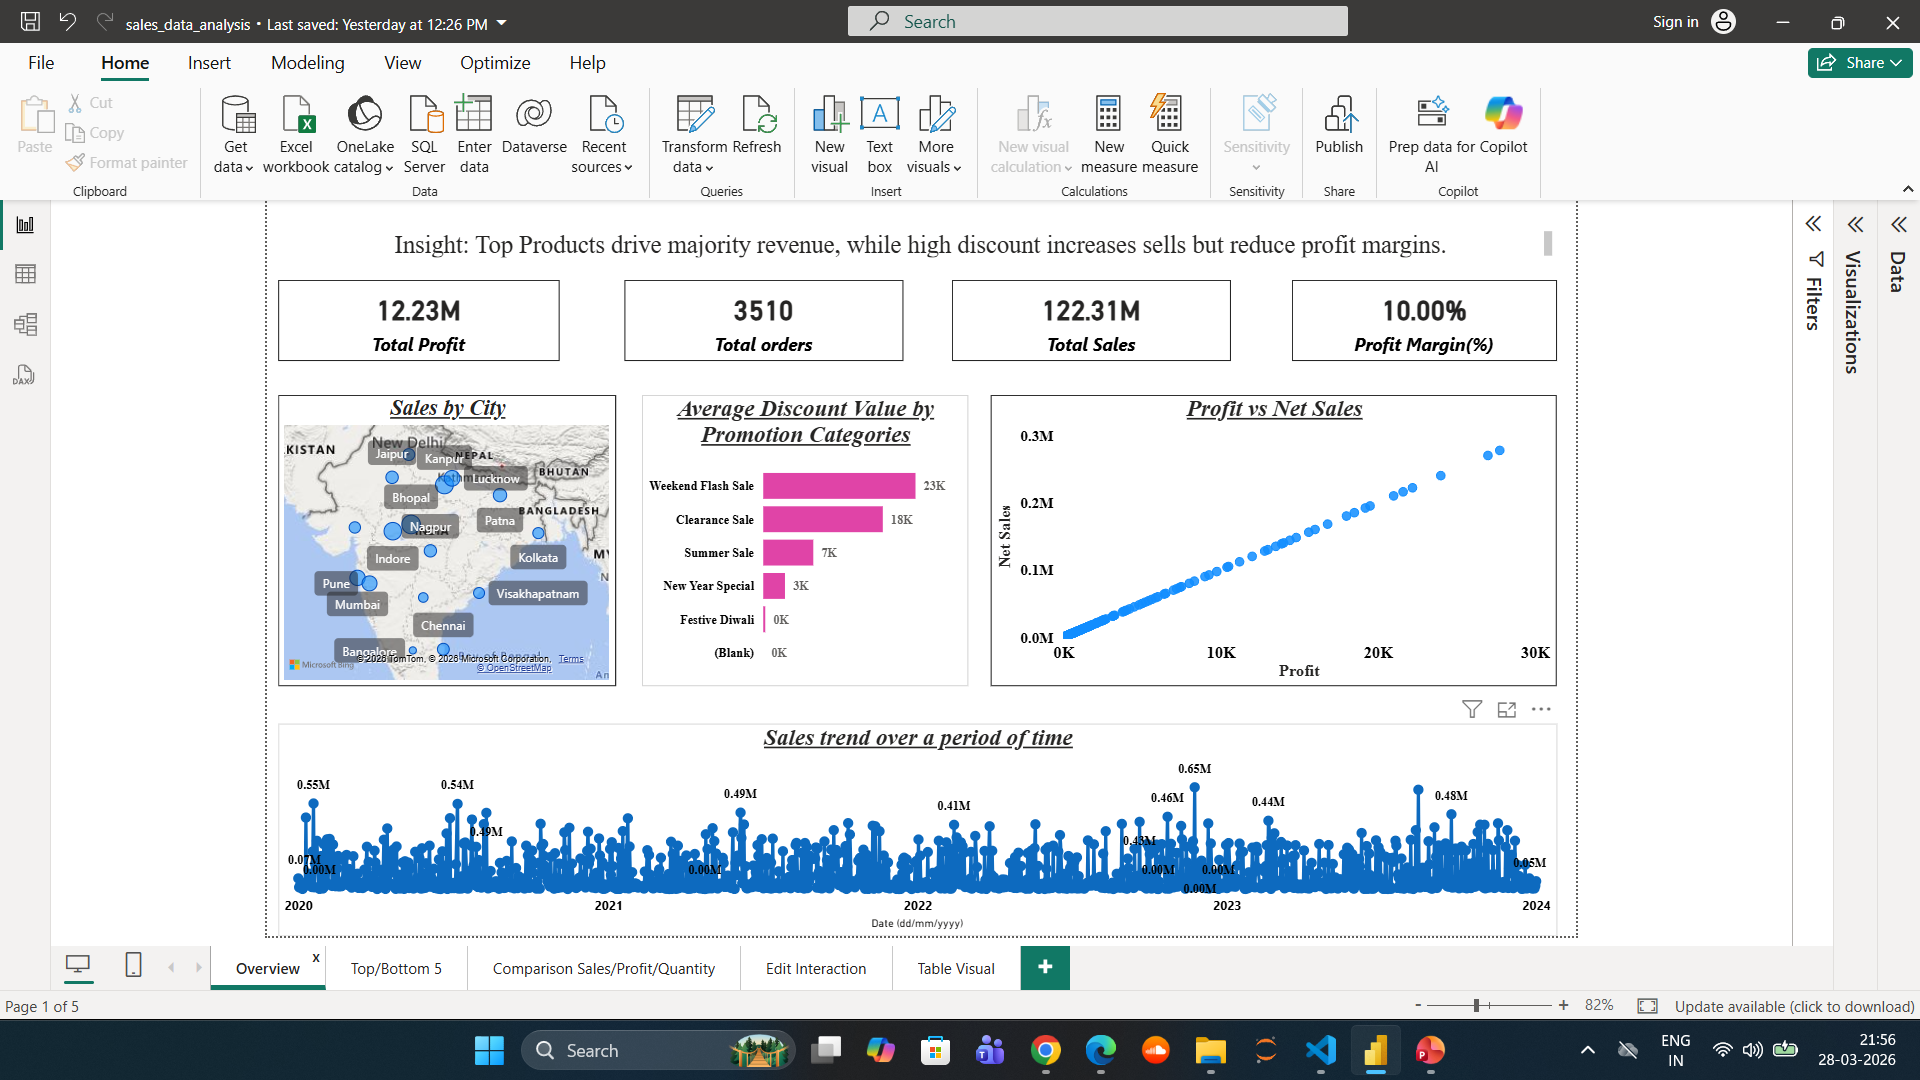

The page's visual inventory and layout, read from the dashboard file:
{"tool":"powerbi","page":{"name":"Overview","canvas":[1280,720],"ordinal":1},"visuals":[{"type":"lineChart","title":"Sales trend over a period of time","fields":{"Category":["Sheet3.Date (dd/mm/yyyy).Variation.Date Hierarchy.Year"],"Y":["Sum(Sheet3.Net Sales)"]},"box":[11,446.3,1253.4,273.9],"z":0},{"type":"scatterChart","title":"Profit vs Net Sales","fields":{"X":["Sum(Sheet3.Profit)"],"Y":["Sum(Sheet3.Net Sales)"]},"box":[701.9,15.9,547.8,414.5],"z":1000},{"type":"barChart","title":"Average Discount Value by Promotion Categories","fields":{"Y":["Avg(Sheet3.Discount Value)"],"Category":["Dim Promotion.Promotion Name"]},"box":[371.7,145.5,319.2,284.9],"z":2000},{"type":"map","title":"Sales by City","fields":{"Category":["Dim Customers.City"],"Size":["Sum(Sheet3.Net Sales)"]},"box":[44,15.9,316.7,414.5],"z":3000},{"type":"card","fields":{"Values":["Count(Sheet3.Order Id)"]},"box":[371.7,15.9,310.6,113.7],"z":4000}]}

Visuals, with their boxes on the page's 1280x720 design canvas (x1, y1, x2, y2). These are canvas units, not pixel positions in the 1920x1080 screenshot, which may show the page scaled, cropped or inside an application window:
"Sales trend over a period of time" lineChart: bbox=(11, 446, 1264, 720)
"Profit vs Net Sales" scatterChart: bbox=(702, 16, 1250, 430)
"Average Discount Value by Promotion Categories" barChart: bbox=(372, 146, 691, 430)
"Sales by City" map: bbox=(44, 16, 361, 430)
card - Count(Sheet3.Order Id): bbox=(372, 16, 682, 130)
